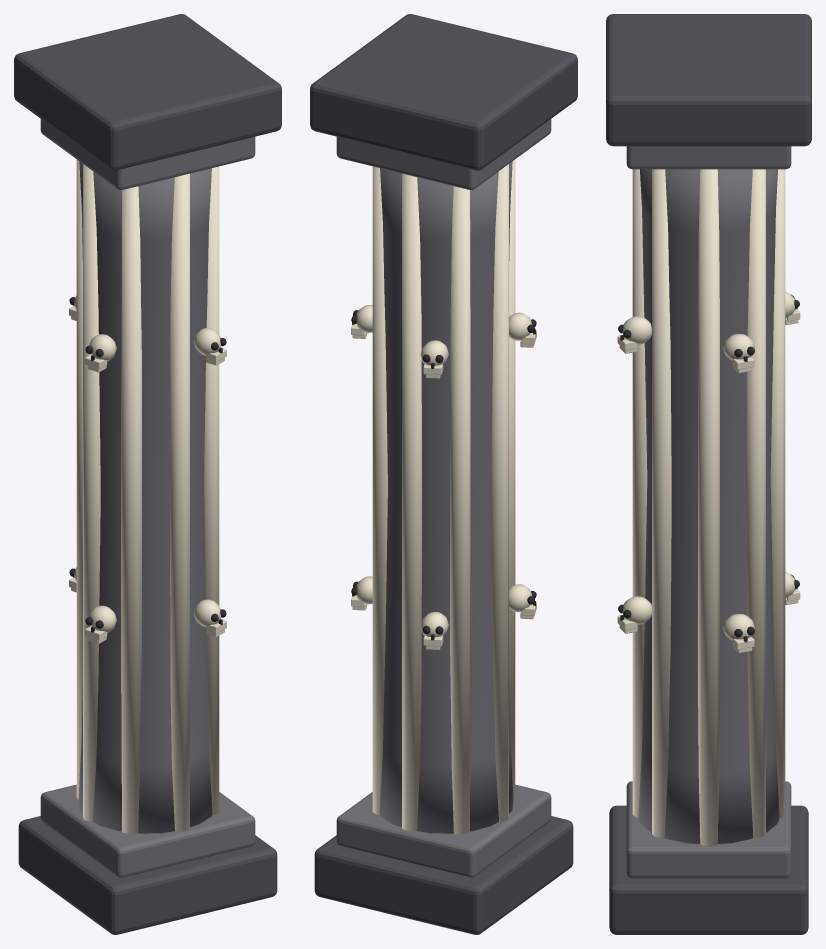
Rendered from column_bone.glb.
The picture shows the model from 3 angles, left to right: view 1: azimuth 30°, elevation 25°; view 2: azimuth 150°, elevation 25°; view 3: azimuth 270°, elevation 25°; orthographic projection. The views are drawn at different scales.
Parts seen in each view (by area): view 1: GD_column_bone__m1, GD_column_bone__m2, GD_column_bone__m0, GD_column_bone__m3; view 2: GD_column_bone__m1, GD_column_bone__m2, GD_column_bone__m0, GD_column_bone__m3; view 3: GD_column_bone__m1, GD_column_bone__m2, GD_column_bone__m0, GD_column_bone__m3.
Boxes of the visible parts, left/top/right/bottom form: GD_column_bone__m1: left=40, top=119, right=255, bottom=877; GD_column_bone__m2: left=69, top=159, right=226, bottom=834; GD_column_bone__m0: left=14, top=14, right=281, bottom=934; GD_column_bone__m3: left=69, top=297, right=226, bottom=632; GD_column_bone__m1: left=336, top=119, right=551, bottom=877; GD_column_bone__m2: left=351, top=159, right=536, bottom=834; GD_column_bone__m0: left=310, top=14, right=577, bottom=934; GD_column_bone__m3: left=351, top=310, right=536, bottom=640; GD_column_bone__m1: left=626, top=146, right=791, bottom=878; GD_column_bone__m2: left=617, top=169, right=800, bottom=846; GD_column_bone__m0: left=606, top=14, right=811, bottom=934; GD_column_bone__m3: left=618, top=294, right=799, bottom=642.
Bounding box in the file's own units: 0.6 × 2.7 × 0.6.
